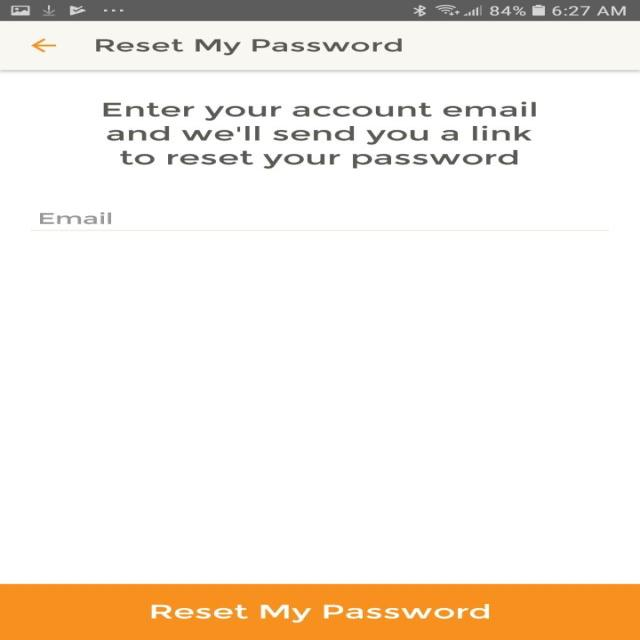EditText: (30, 212, 609, 231)
Icon: (31, 38, 57, 53)
Text: (102, 101, 536, 169), (95, 38, 402, 55), (39, 212, 112, 224)
TextButton: (0, 584, 639, 640)
